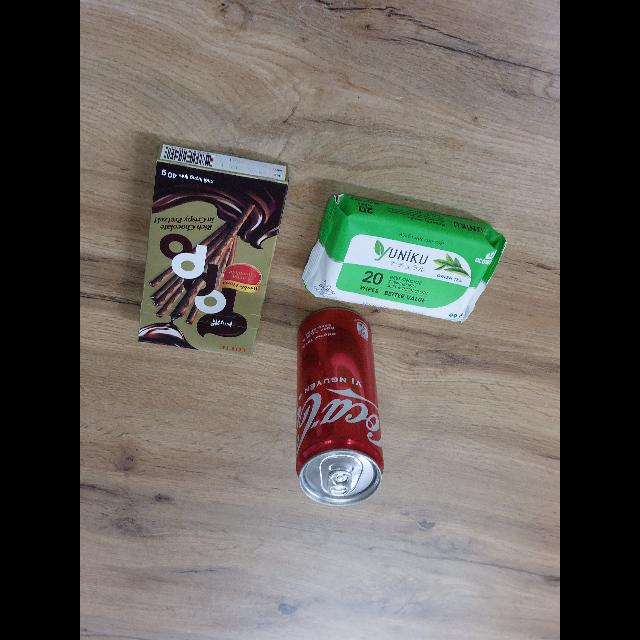banh_toppo_socola: (138, 144, 289, 357)
coca_cola: (296, 308, 384, 505)
khan_giay: (302, 194, 506, 322)
